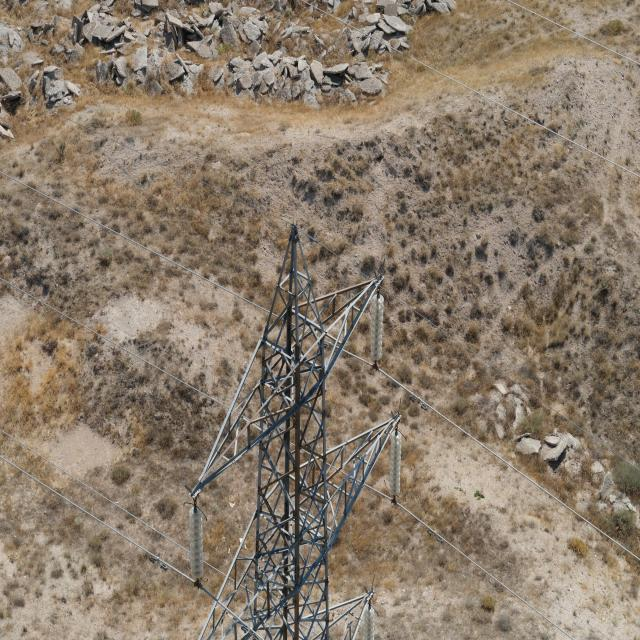voltage_line: (192, 232, 395, 640)
